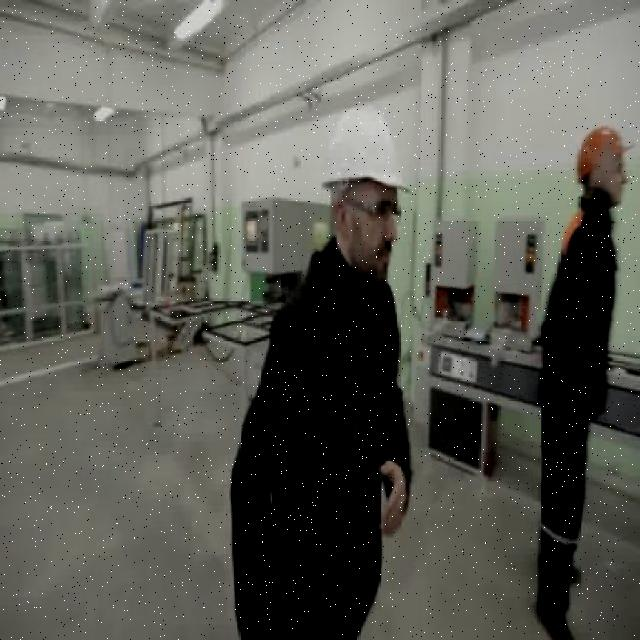Helmet: (318, 100, 412, 196), (576, 124, 633, 180)
Mask: (529, 193, 617, 633)
